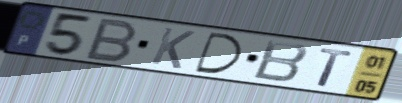5: (40, 11, 101, 58)
B: (250, 38, 312, 85), (81, 17, 141, 64)
D: (192, 30, 245, 76)
K: (148, 25, 198, 71)
T: (315, 46, 355, 89)
